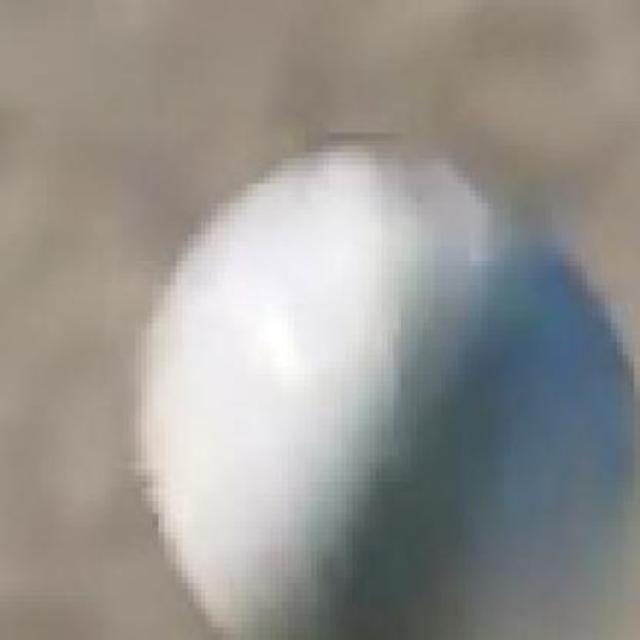Cricket ball: (126, 132, 640, 640)
